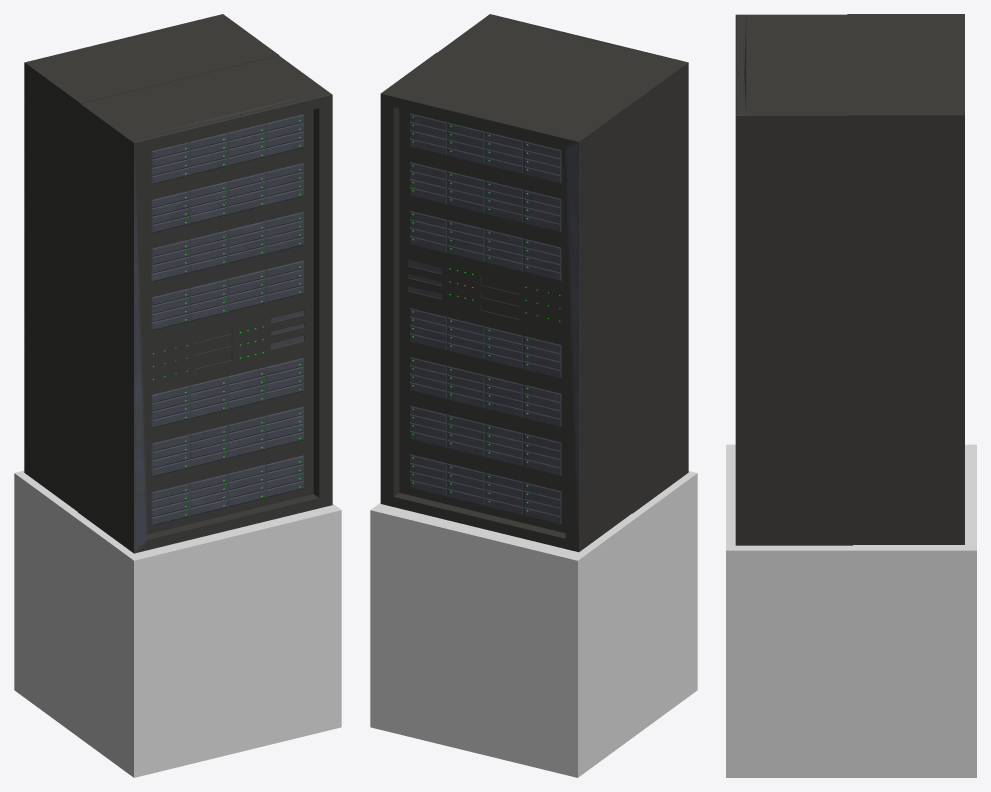
File: Double ServerBox.fbx
The picture shows the model from 3 angles, left to right: view 1: azimuth 30°, elevation 25°; view 2: azimuth 150°, elevation 25°; view 3: azimuth 270°, elevation 25°; orthographic projection. The views are drawn at different scales.
Parts seen in each view (by area): view 1: Box863, Box845, Box848; view 2: Box848, Box845, Box863; view 3: Box848, Box863, Box845.
Boxes of the visible parts, x1,y1,x2,y2 form: Box863: [78, 55, 332, 553]; Box845: [14, 470, 341, 777]; Box848: [24, 14, 279, 513]; Box848: [380, 52, 635, 552]; Box845: [370, 471, 697, 777]; Box863: [437, 14, 688, 513]; Box848: [847, 14, 964, 544]; Box863: [735, 14, 852, 545]; Box845: [726, 444, 976, 777].
Size of the model in its own units: 39.5 by 39.5 by 115.
